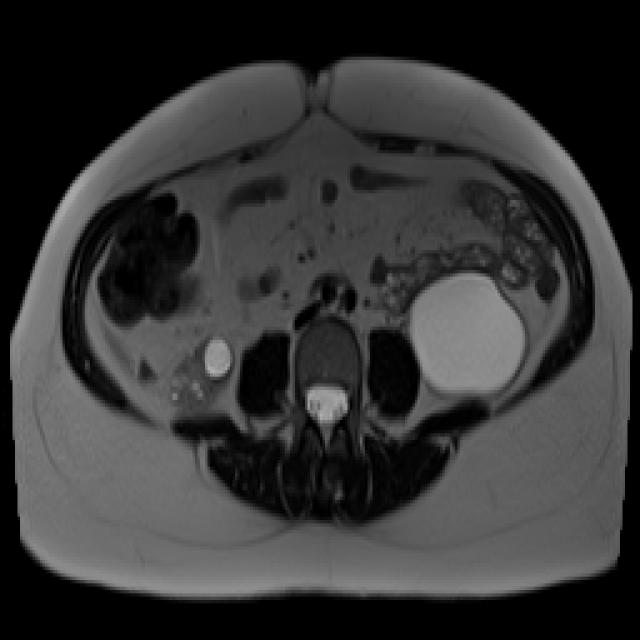sag: (166, 332, 235, 417)
sol: (408, 268, 528, 397)
